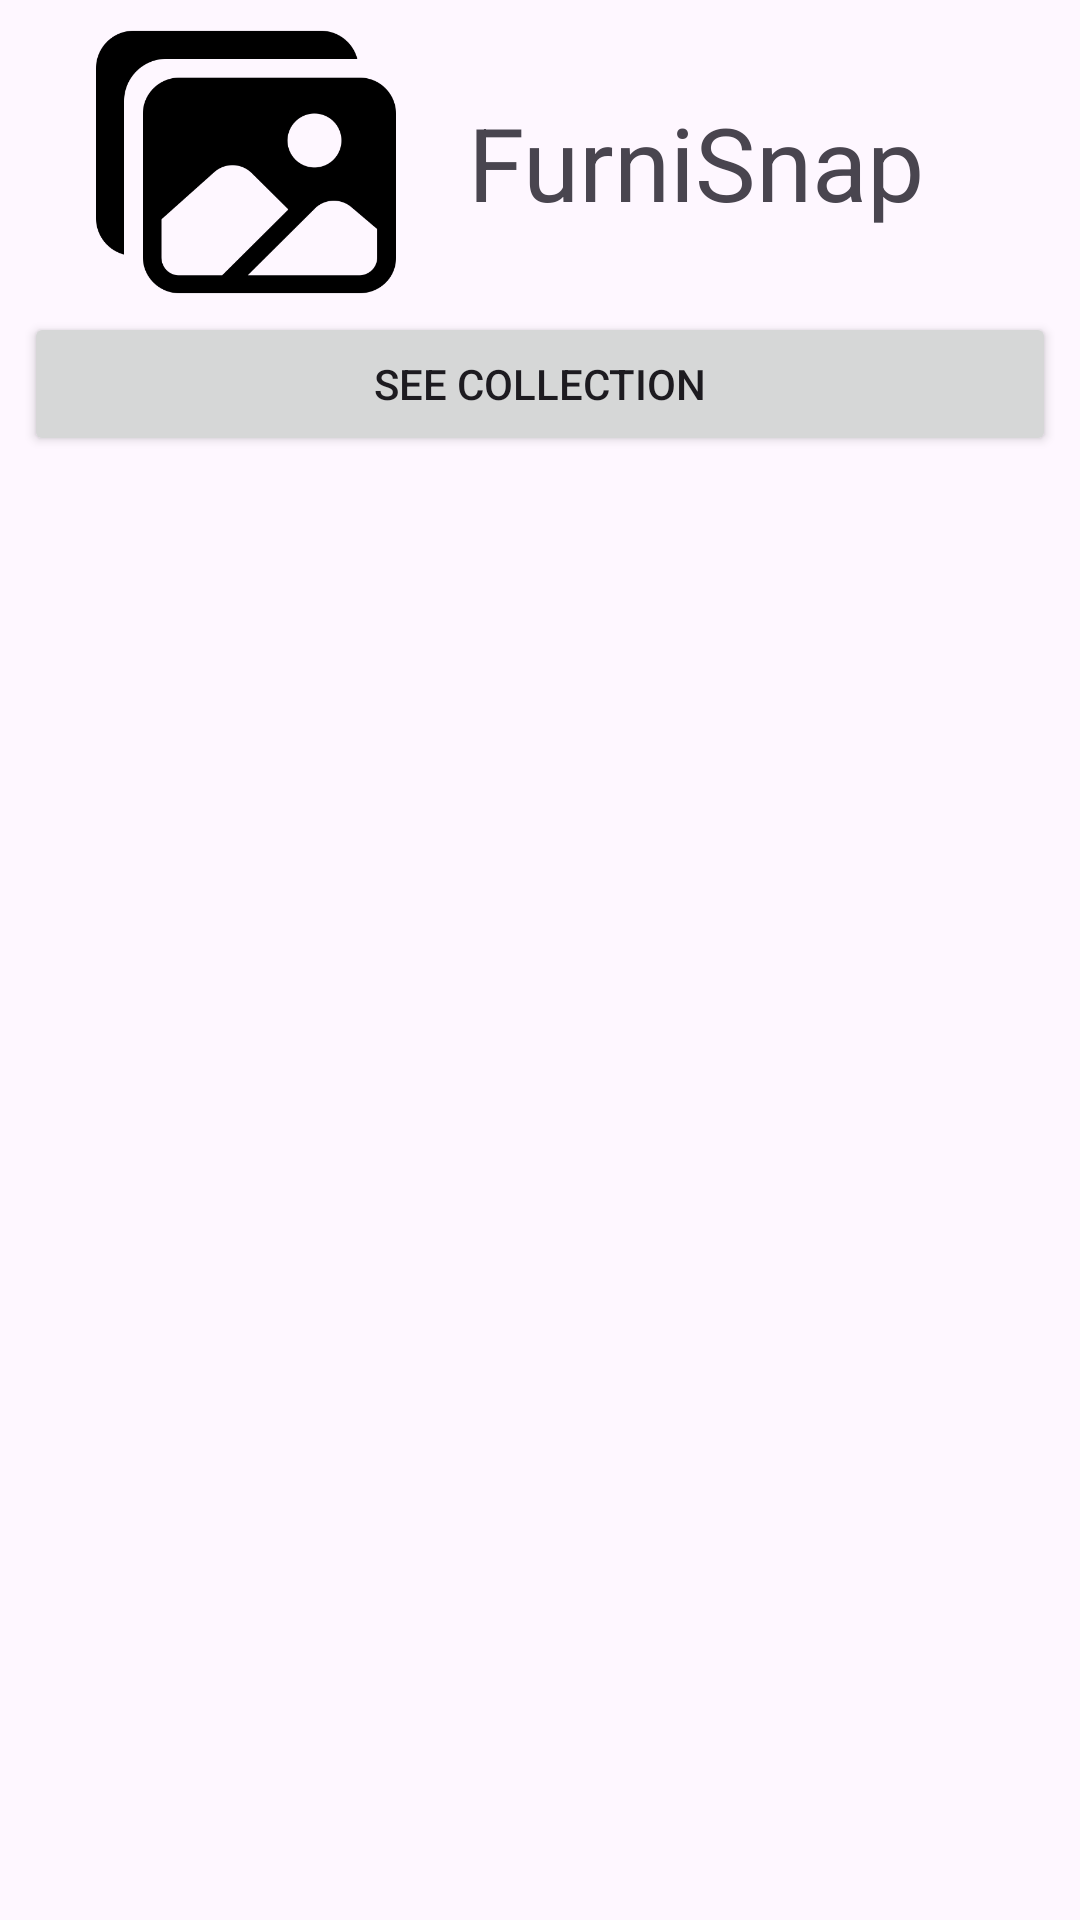

Icons on this 1080w x 1920h Android screen, each with the point to tap as [x,y]:
ionic ionicons images: [246,162]
